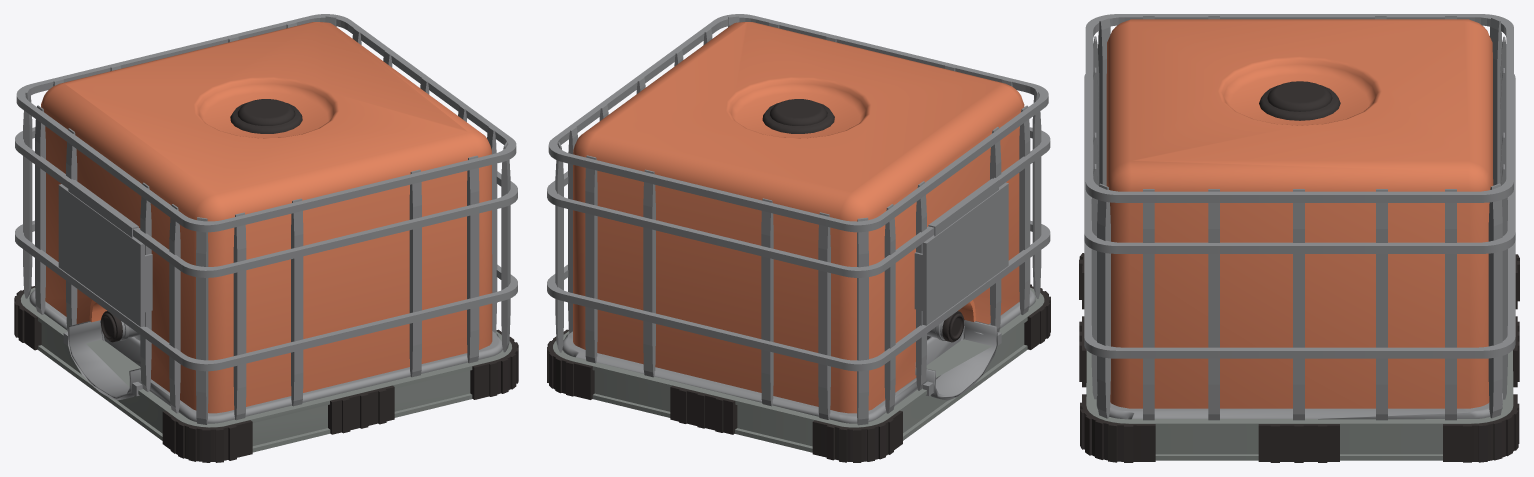
File: WaterTank.fbx
3 renders of one model, left to right at view 1: azimuth 30°, elevation 25°; view 2: azimuth 150°, elevation 25°; view 3: azimuth 270°, elevation 25°, orthographic. The views are drawn at different scales.
Visible parts, largest first — view 1: WaterThing; view 2: WaterThing; view 3: WaterThing.
Part boxes in pixels (x1,y1,x2,y2): WaterThing: (14,14,518,462); WaterThing: (547,14,1050,462); WaterThing: (1079,14,1519,462).
Bounding box in the file's own units: 191 × 134 × 191.
